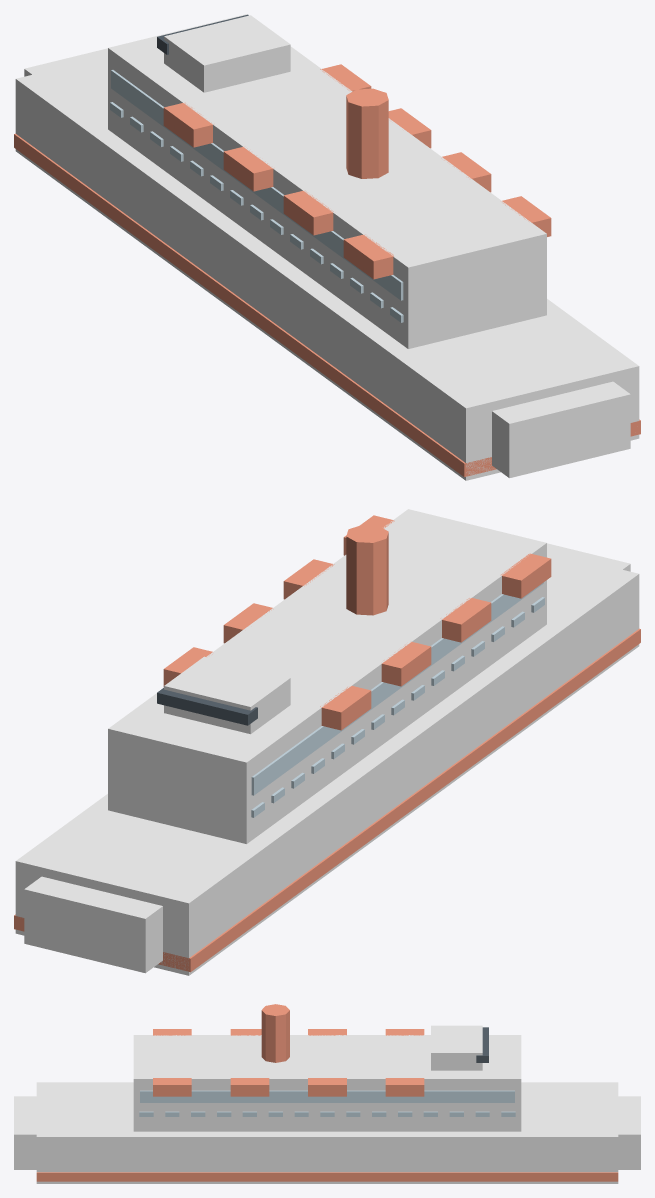
The model's file is ferry.glb.
3 views of the same model, one above another, from view 1: azimuth 30°, elevation 25°; view 2: azimuth 150°, elevation 25°; view 3: azimuth 270°, elevation 25° (orthographic). The views are drawn at different scales.
Visible parts, largest first — view 1: superstructure, hull, stern_door, band, bridge, Cylinder, windows, lb_p0, lb_p1, lb_p2, lb_p3, lb_s0 (+4 smaller); view 2: superstructure, hull, bow_door, band, bridge, Cylinder, windows, bridge_windows, lb_p0, lb_p3, lb_p2, lb_p1 (+4 smaller); view 3: hull, superstructure, band, windows, bridge, bow_door, stern_door, Cylinder, lb_s1, lb_s3, lb_s0, lb_s2 (+2 smaller).
Boxes of the visible parts, x1,y1,x2,y2 form: superstructure: (108,14,546,348); hull: (15,56,639,480); stern_door: (492,381,630,478); band: (14,133,640,477); bridge: (164,15,290,92); Cylinder: (346,88,388,178); windows: (111,70,403,300); lb_p0: (343,234,393,279); lb_p1: (283,190,333,235); lb_p2: (223,147,273,191); lb_p3: (163,102,212,147); lb_s0: (502,196,551,236); superstructure: (108,509,546,843); hull: (15,551,639,975); bow_door: (24,876,162,973); band: (14,628,640,972); bridge: (164,656,290,734); Cylinder: (346,525,388,615); windows: (251,582,543,795); bridge_windows: (157,688,257,725); lb_p0: (500,553,551,598); lb_p3: (320,686,371,730); lb_p2: (381,641,431,686); lb_p1: (440,598,491,642); hull: (36,1082,618,1183); superstructure: (133,1035,521,1131); band: (36,1172,618,1181); windows: (140,1090,514,1102); bridge: (431,1025,482,1070); bow_door: (618,1096,640,1169); stern_door: (14,1096,36,1169); Cylinder: (261,1004,289,1062); lb_s1: (230,1078,269,1096); lb_s3: (385,1078,424,1096); lb_s0: (153,1078,191,1096); lb_s2: (308,1078,346,1096).
Size of the model in its own units: 20.5 by 25 by 97.
